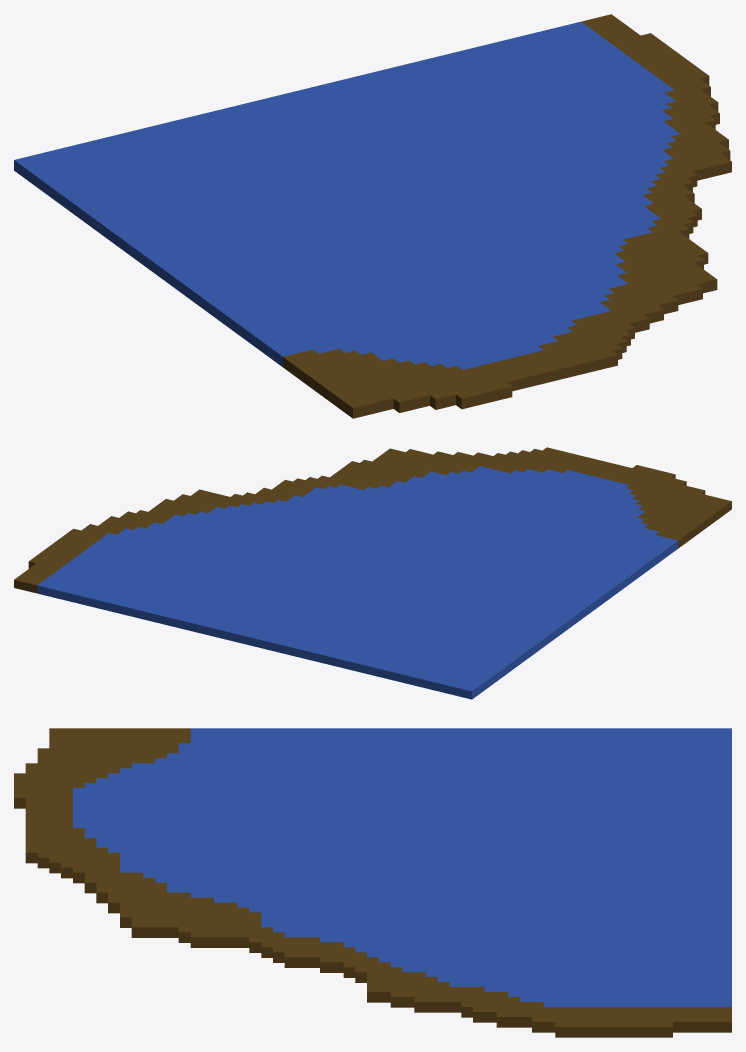
File: lammikko.obj
3 views of the same model, one above another, from view 1: azimuth 30°, elevation 25°; view 2: azimuth 150°, elevation 25°; view 3: azimuth 270°, elevation 25° (orthographic). The views are drawn at different scales.
Size of the model in its own units: 60 by 1 by 61.
Materials: 1 (1 with a texture image).
